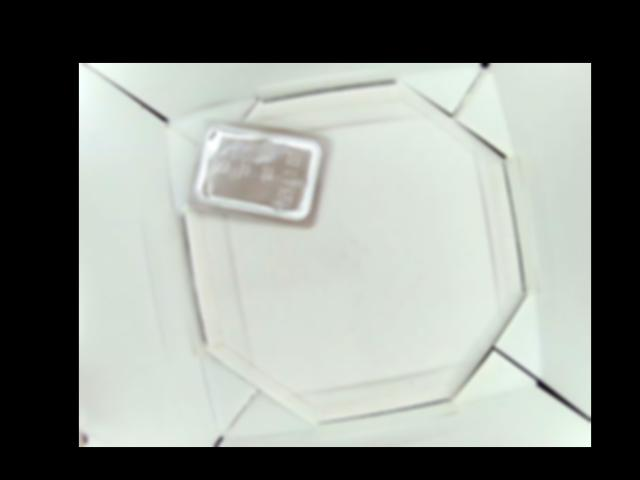Medicine: (190, 116, 333, 227)
